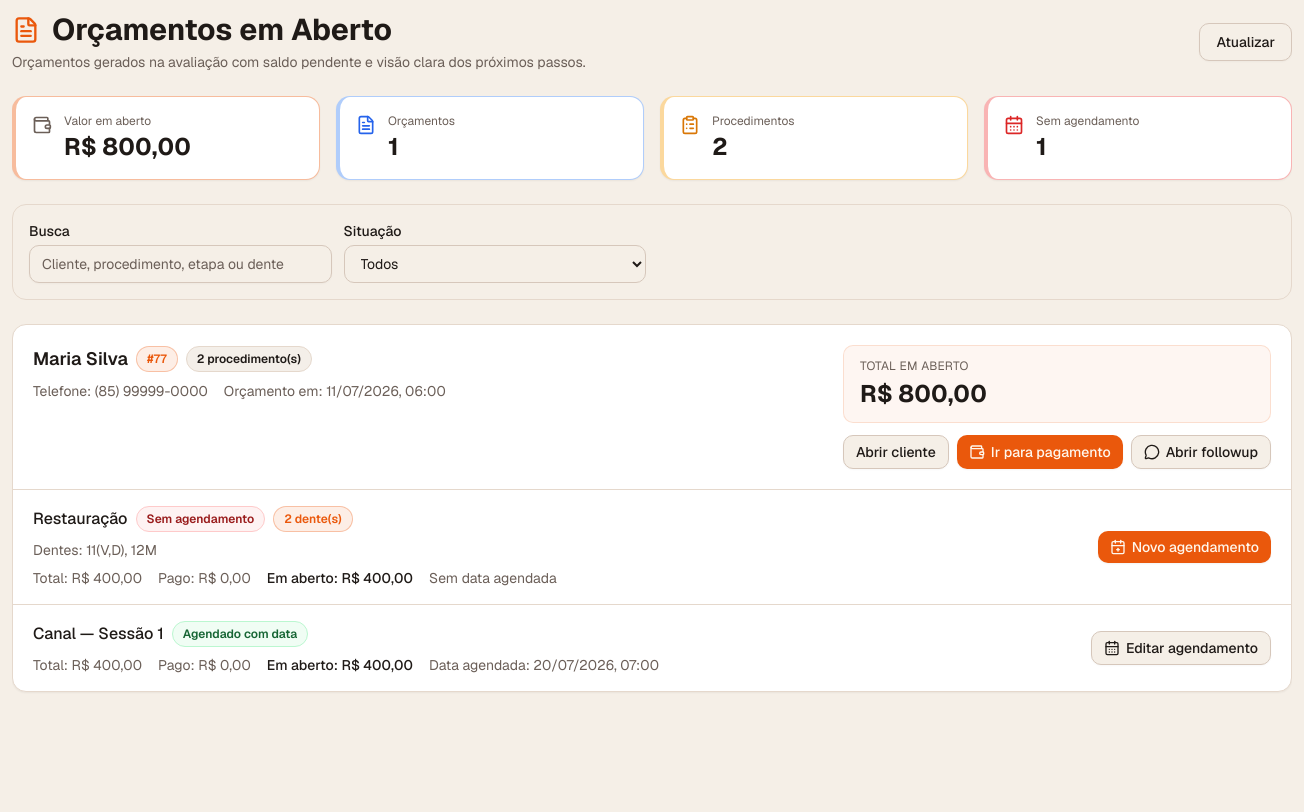
Test: OrcamentosEmAbertoPage › exibe erro quando não consegue preparar pagamento
Check: the heading "Maria Silva" is shown, box x1=33 y1=345 x2=128 y2=373
Click the button "Ir para pagamento" at (1040, 452), box x1=957 y1=435 x2=1123 y2=469
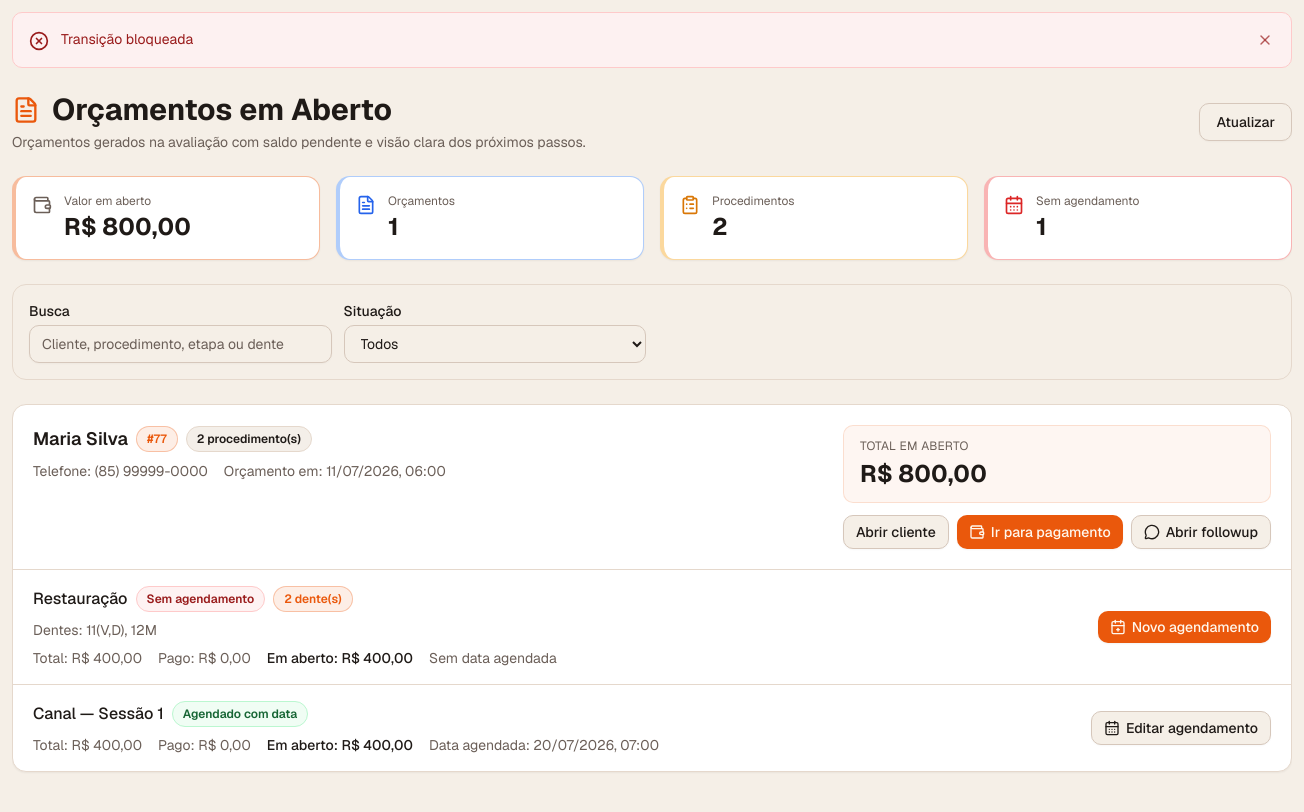
Check: the text "Transição bloqueada" is shown, box x1=61 y1=30 x2=193 y2=48
